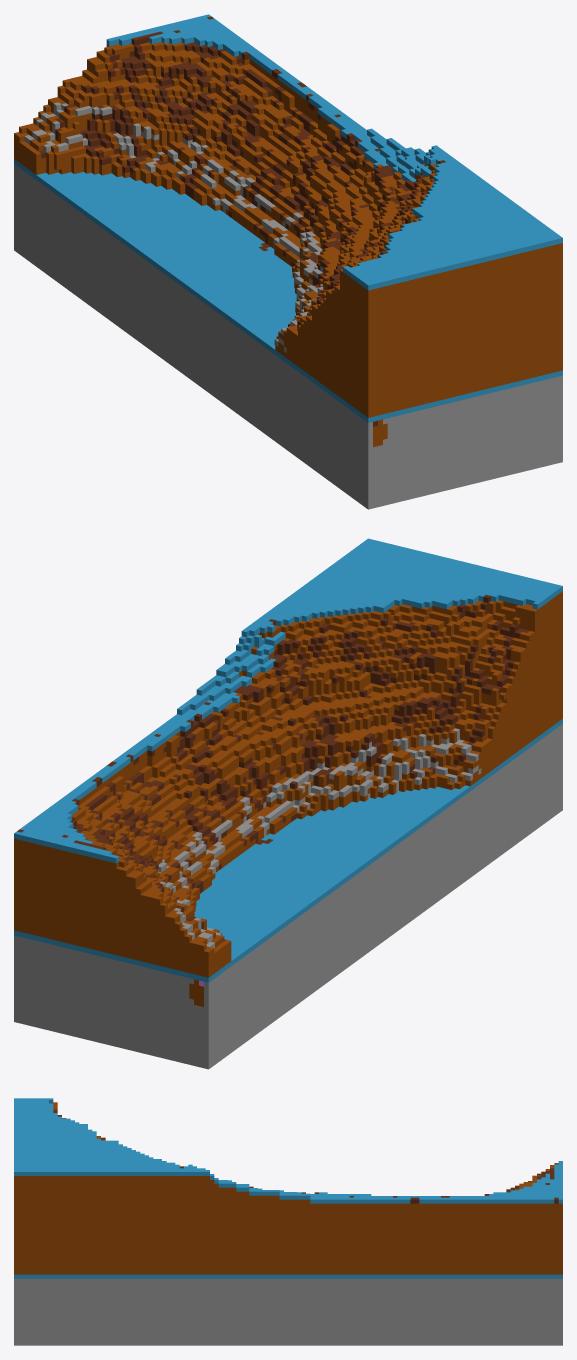
The model's file is level 1 - Part 6 - Naast.obj.
3 views of the same model, one above another, from view 1: azimuth 30°, elevation 25°; view 2: azimuth 150°, elevation 25°; view 3: azimuth 270°, elevation 25° (orthographic). The views are drawn at different scales.
Bounding box in the file's own units: 40 × 44 × 126.
1 material, 1 textured.
